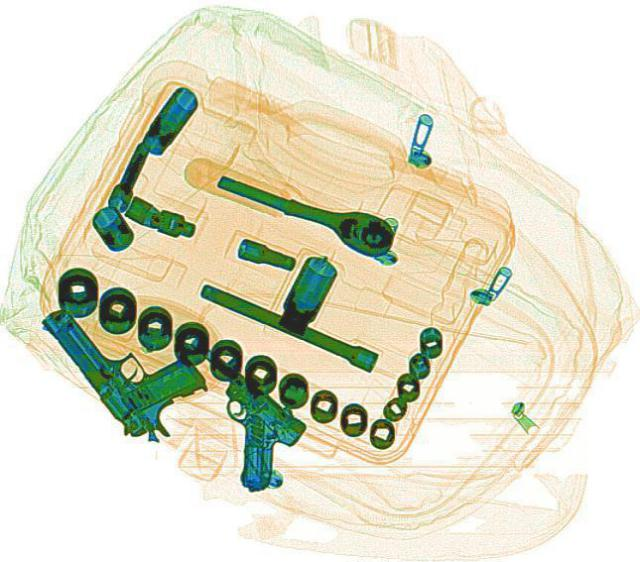Gun: (34, 274, 228, 450), (162, 361, 328, 494)
